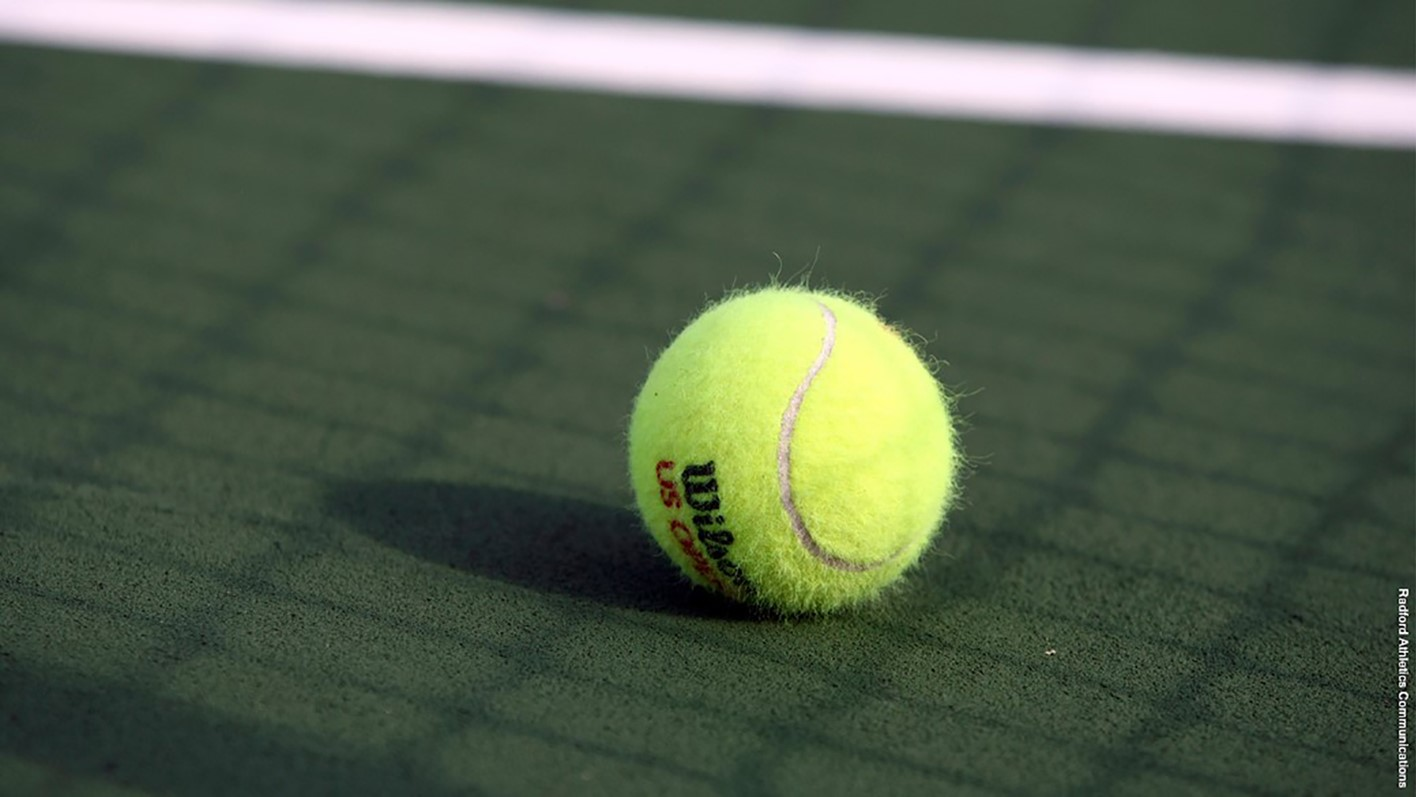aim: (628, 285, 960, 616)
